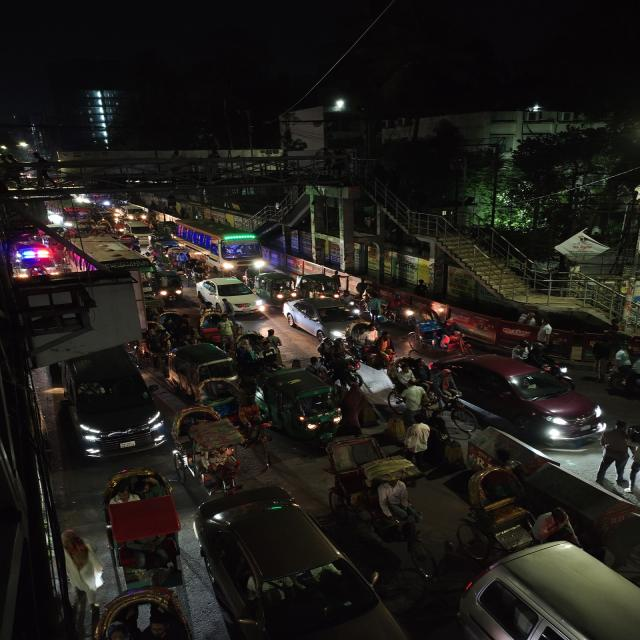bus: (180, 222, 263, 268)
car: (182, 483, 383, 640), (457, 539, 639, 640), (433, 354, 611, 448), (52, 341, 169, 459), (283, 298, 363, 340), (195, 276, 266, 315), (121, 222, 158, 239)
cng: (258, 367, 345, 449), (166, 343, 239, 403), (257, 270, 298, 304), (298, 273, 343, 301), (154, 270, 186, 302)
motorcycle: (346, 321, 400, 369), (513, 339, 575, 378), (604, 361, 640, 398), (431, 326, 475, 355)
pedestrian: (596, 421, 638, 492), (401, 417, 436, 465), (397, 378, 429, 419), (588, 336, 616, 380)
rickshaw: (93, 465, 186, 590), (452, 461, 568, 558), (325, 450, 424, 546), (174, 405, 252, 475), (166, 343, 240, 405), (234, 332, 281, 372), (158, 310, 196, 346), (197, 312, 234, 348)
